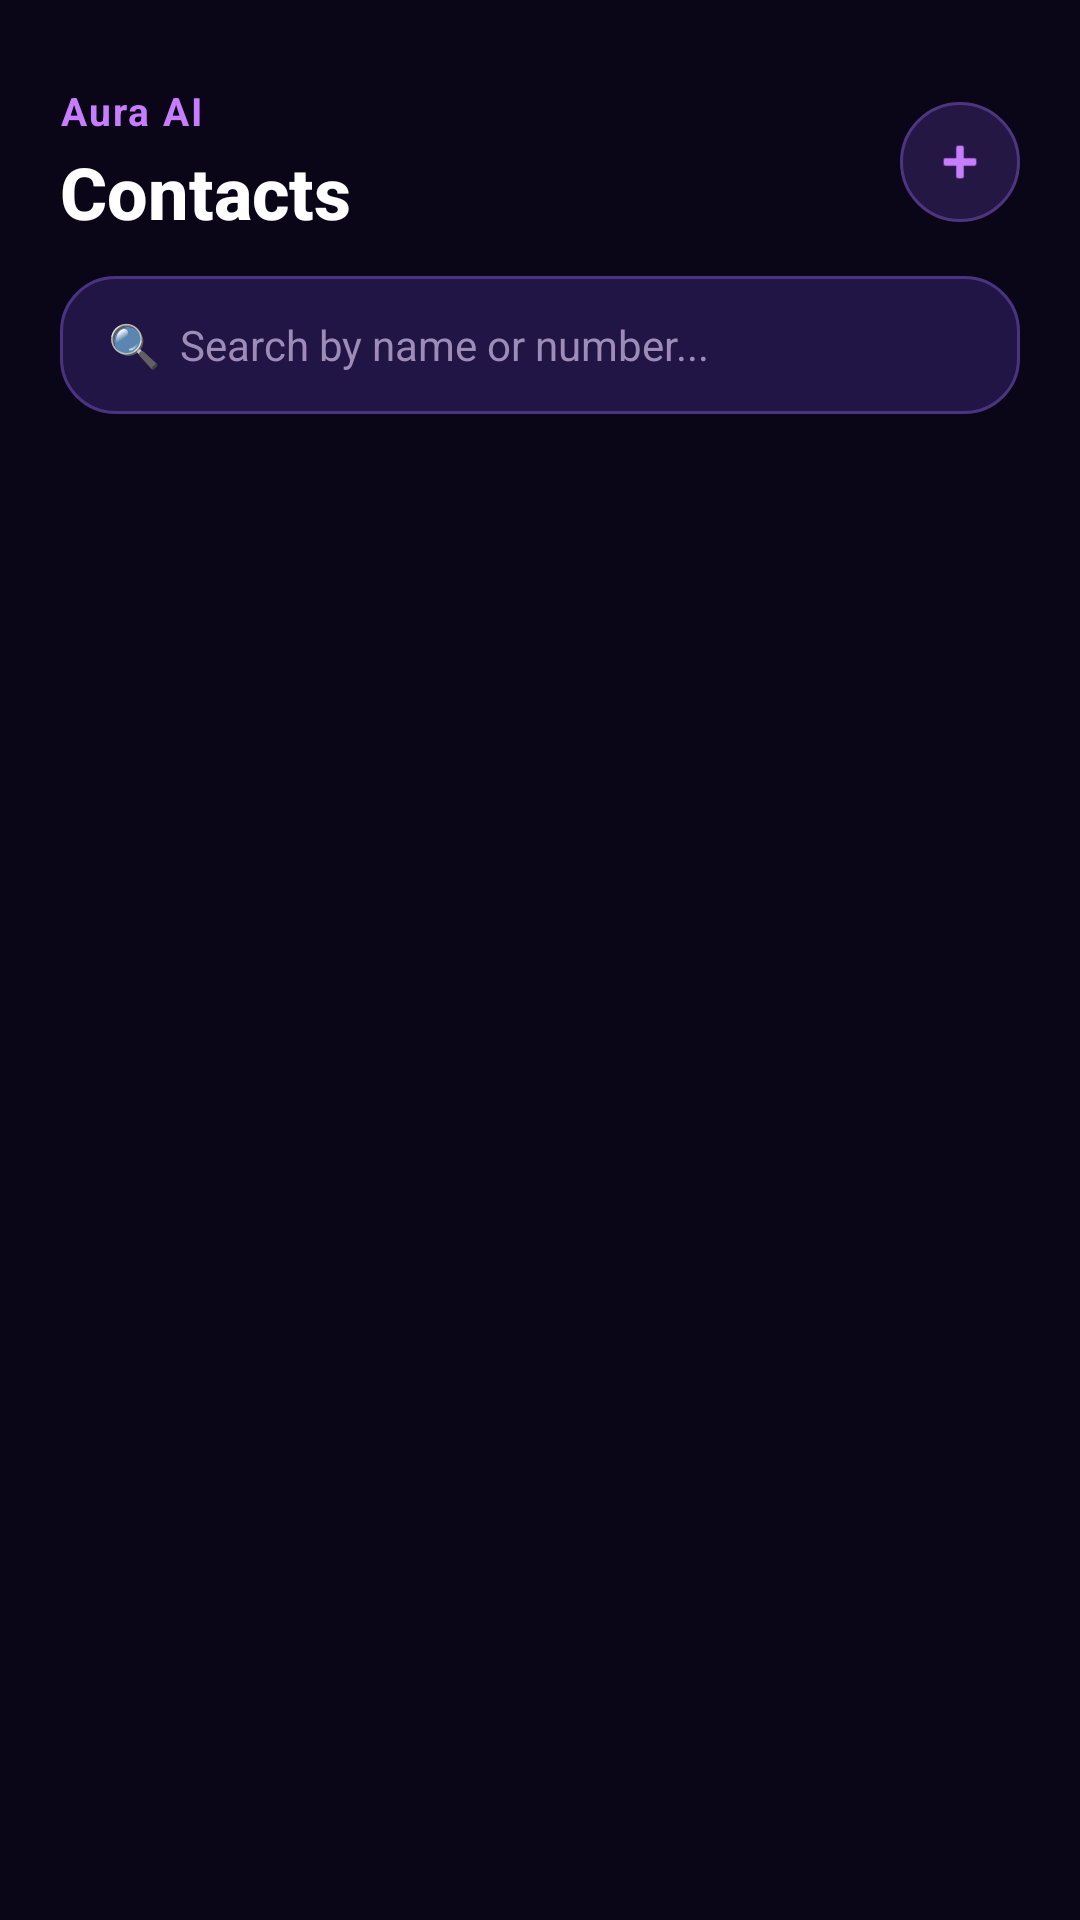

Screen size 1080*1920. Icon name, then its center in pixels as [x,y]:
add: [960,162]
